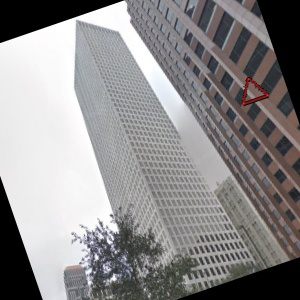triangle: (240, 76, 270, 109)
